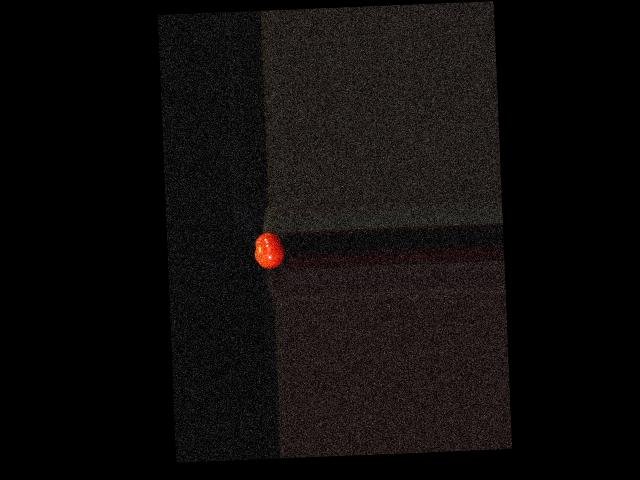tomato: (254, 232, 285, 270)
